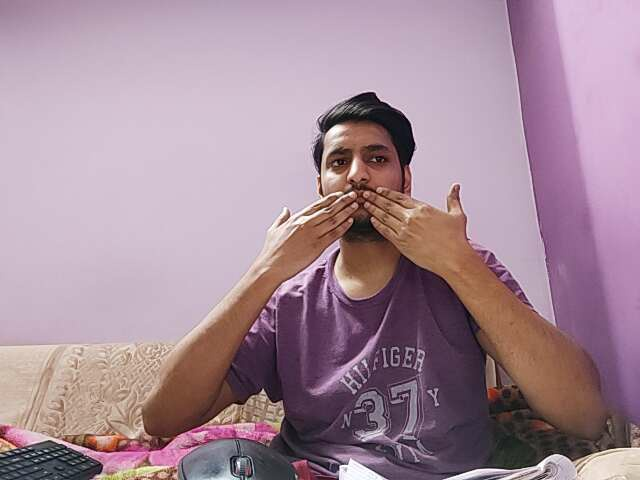ThankYou: (256, 184, 484, 276)
